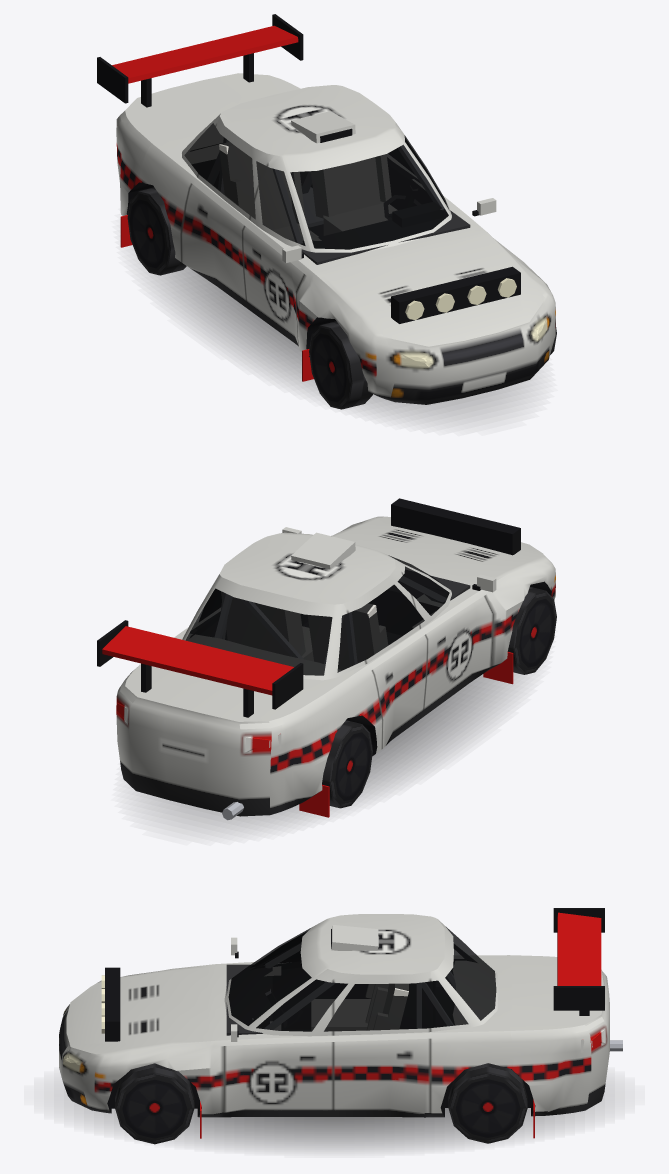
Rendered from granito.glb.
The picture shows the model from 3 angles, top to bottom: view 1: azimuth 30°, elevation 25°; view 2: azimuth 150°, elevation 25°; view 3: azimuth 270°, elevation 25°; orthographic projection. The views are drawn at different scales.
Visible parts, largest first — view 1: Carroceria, Interior, Capo_malha, Tampa_malha, Sombra, Porta_TD_malha, Porta_D_malha, Roda_DD, Roda_TD, Porta_E_malha, Farol; view 2: Carroceria, Tampa_malha, Interior, Capo_malha, Sombra, Porta_TD_malha, Porta_D_malha, Roda_TD, Roda_DD; view 3: Carroceria, Porta_TE_malha, Interior, Porta_E_malha, Sombra, Capo_malha, Tampa_malha, Roda_TE, Roda_DE, Porta_D_malha.
Boxes of the visible parts, x1,y1,x2,y2 form: Carroceria: (97, 14, 555, 404); Interior: (192, 138, 470, 264); Capo_malha: (323, 235, 544, 346); Tampa_malha: (112, 25, 298, 142); Sombra: (148, 267, 528, 420); Porta_TD_malha: (181, 117, 274, 299); Porta_D_malha: (242, 155, 310, 344); Roda_DD: (309, 321, 372, 409); Roda_TD: (127, 187, 186, 275); Porta_E_malha: (394, 126, 496, 217); Farol: (394, 319, 549, 368); Carroceria: (97, 516, 555, 820); Tampa_malha: (102, 626, 317, 729); Interior: (190, 570, 470, 669); Capo_malha: (336, 498, 544, 581); Sombra: (140, 673, 521, 830); Porta_TD_malha: (344, 564, 427, 748); Porta_D_malha: (395, 561, 496, 708); Roda_TD: (322, 720, 372, 808); Roda_DD: (507, 587, 556, 674); Carroceria: (59, 908, 622, 1138); Porta_TE_malha: (333, 971, 430, 1113); Interior: (226, 943, 476, 1035); Porta_E_malha: (224, 969, 333, 1112); Sombra: (64, 1088, 604, 1149); Capo_malha: (71, 967, 208, 1054); Tampa_malha: (511, 912, 603, 1032); Roda_TE: (448, 1063, 527, 1143); Roda_DE: (115, 1063, 194, 1144); Porta_D_malha: (231, 933, 304, 966).
Size of the model in its own units: 2.38 by 1.42 by 5.
Materials: 14 (5 with a texture image).
